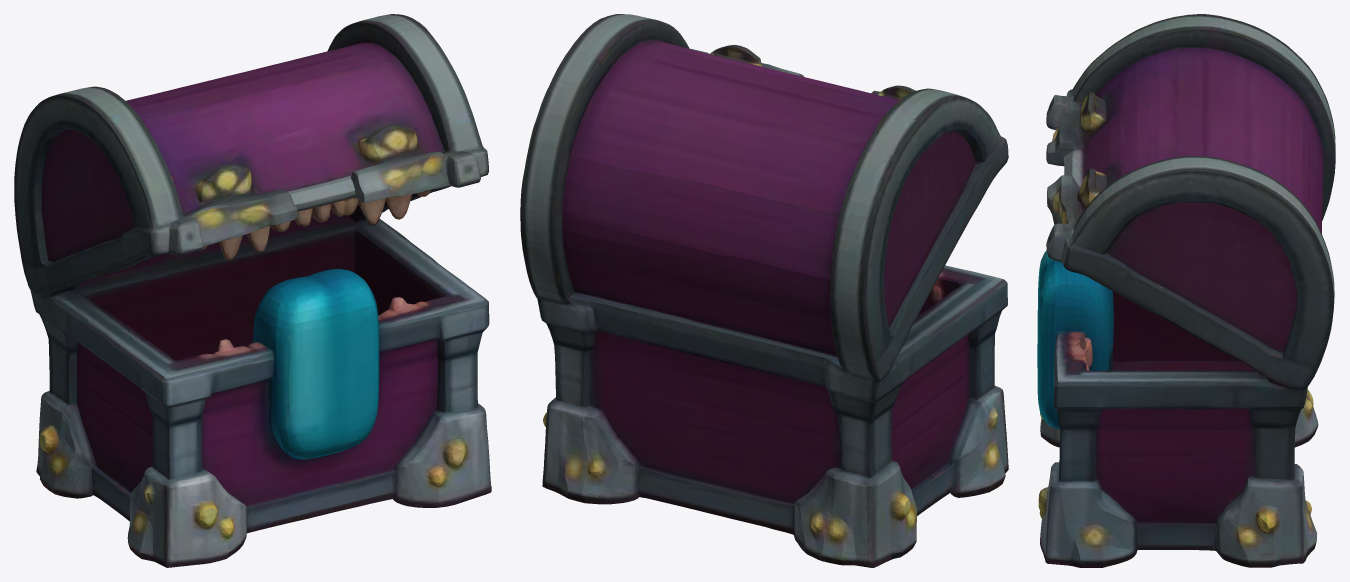
The model's file is water_trap_chest.glb.
3 renders of one model, left to right at view 1: azimuth 30°, elevation 25°; view 2: azimuth 150°, elevation 25°; view 3: azimuth 270°, elevation 25°, orthographic. The views are drawn at different scales.
Parts seen in each view (by area): view 1: world; view 2: world; view 3: world.
Boxes of the visible parts, x1=… form: world: x1=14, y1=14, x2=491, y2=567; world: x1=520, y1=14, x2=1008, y2=567; world: x1=1037, y1=14, x2=1335, y2=567.
Size of the model in its own units: 0.8966 by 0.9974 by 0.6779.
Materials: 1 (1 with a texture image).
